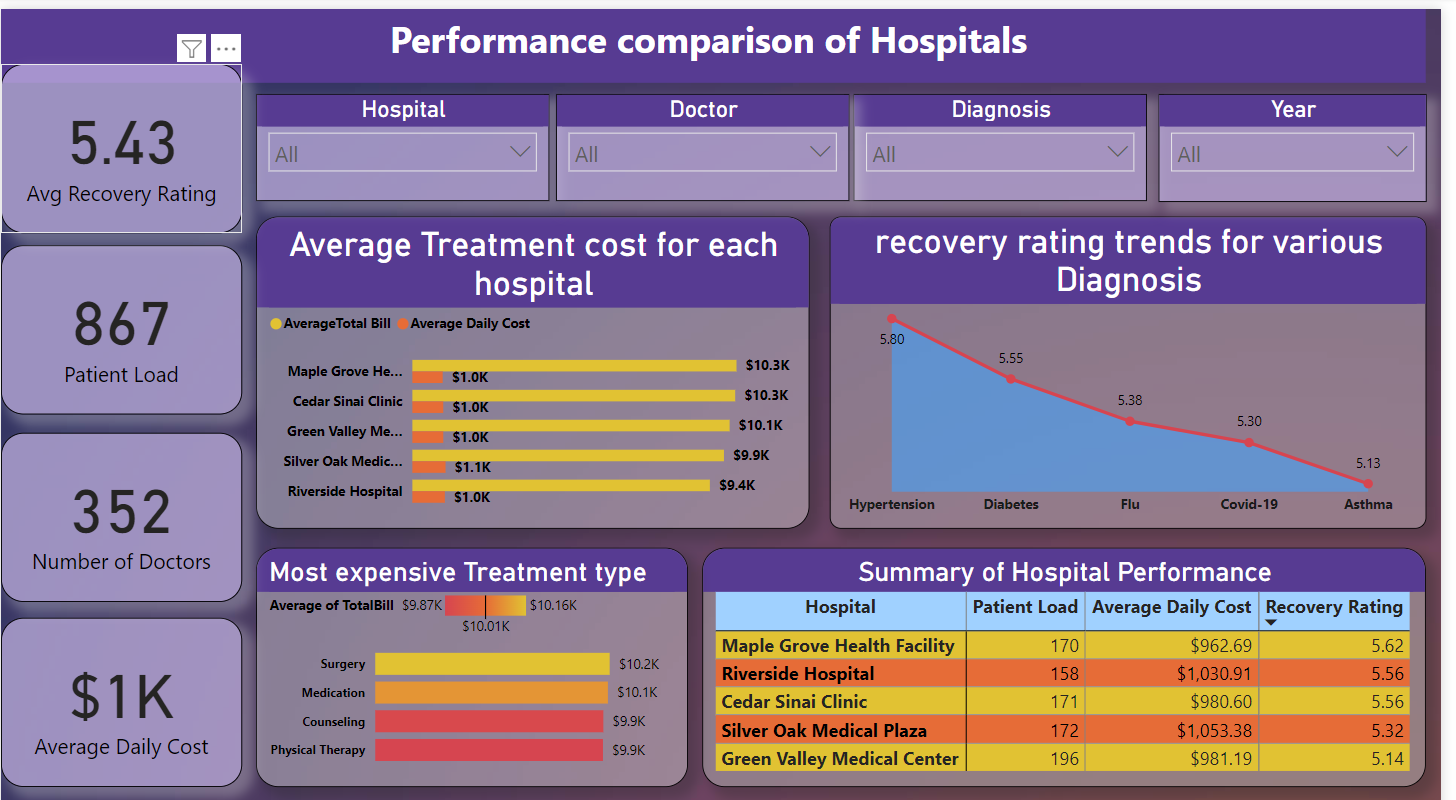

Layout of this report page (visuals, bound fields, positions):
{"tool":"powerbi","page":{"name":"Hospital Performance Comparison","canvas":[1280,720],"ordinal":1},"visuals":[{"type":"areaChart","title":" recovery rating trends for various Diagnosis","fields":{"Category":["overall_data.Diagnosis"],"Y":["Avg(overall_data.RecoveryRating)"]},"box":[737.1,184.3,530.1,277.8],"z":0},{"type":"clusteredBarChart","title":"Average Treatment cost for each hospital","fields":{"Category":["overall_data.Hospital"],"Y":["Avg(overall_data.TotalBill)","Avg(overall_data.DailyCost)"]},"box":[226.8,184.3,491.9,277.8],"z":1000},{"type":"pivotTable","title":"Summary of Hospital Performance","fields":{"Values":["CountNonNull(overall_data.PatientID)","Avg(overall_data.DailyCost)","Avg(overall_data.RecoveryRating)"],"Rows":["overall_data.Hospital"]},"box":[623.6,479.1,643.5,212.6],"z":2000},{"type":"actionButton","box":[0,0,100,40],"z":3000},{"type":"barChart","title":"Most expensive Treatment type","fields":{"Category":["overall_data.TreatmentType"],"Y":["Avg(overall_data.TotalBill)"]},"box":[226.8,479.1,384.1,212.6],"z":4000},{"type":"slicer","title":"Hospital ","fields":{"Values":["overall_data.Hospital"]},"box":[226.8,75.1,260.8,95],"z":5000},{"type":"slicer","title":"Diagnosis","fields":{"Values":["overall_data.Diagnosis"]},"box":[758.3,75.1,260.8,95],"z":6000},{"type":"slicer","title":"Doctor","fields":{"Values":["overall_data.DoctorName"]},"box":[493.2,75.1,260.8,95],"z":7000},{"type":"slicer","title":"  Year","fields":{"Values":["overall_data.AdmissionDate.Variation.Date Hierarchy.Year"]},"box":[1029,75.1,238.1,96.4],"z":8000},{"type":"textbox","box":[226.8,0,1040.3,65.2],"z":9000},{"type":"card","fields":{"Values":["CountNonNull(overall_data.PatientID)"]},"box":[0,209.8,214,150.3],"z":10000},{"type":"card","fields":{"Values":["Avg(overall_data.DailyCost)"]},"box":[0,541.5,214,150.3],"z":11000},{"type":"card","fields":{"Values":["Count(overall_data.DoctorName)"]},"box":[0,377.1,214,150.3],"z":11001},{"type":"card","fields":{"Values":["Avg(overall_data.RecoveryRating)"]},"box":[0,39.7,214,150.3],"z":11002}]}

Visuals, with their boxes in screenshot pixels (x1, y1, x2, y2), scaled from the page's 1280x720 canvas onto the 1456x800 screenshot:
" recovery rating trends for various Diagnosis" areaChart: 838 205 1441 513
"Average Treatment cost for each hospital" clusteredBarChart: 258 205 818 513
"Summary of Hospital Performance" pivotTable: 709 532 1441 769
actionButton: 0 0 114 44
"Most expensive Treatment type" barChart: 258 532 695 769
"Hospital " slicer: 258 83 555 189
"Diagnosis" slicer: 863 83 1159 189
"Doctor" slicer: 561 83 858 189
"  Year" slicer: 1170 83 1441 191
textbox: 258 0 1441 72
card - CountNonNull(overall_data.PatientID): 0 233 243 400
card - Avg(overall_data.DailyCost): 0 602 243 769
card - Count(overall_data.DoctorName): 0 419 243 586
card - Avg(overall_data.RecoveryRating): 0 44 243 211
